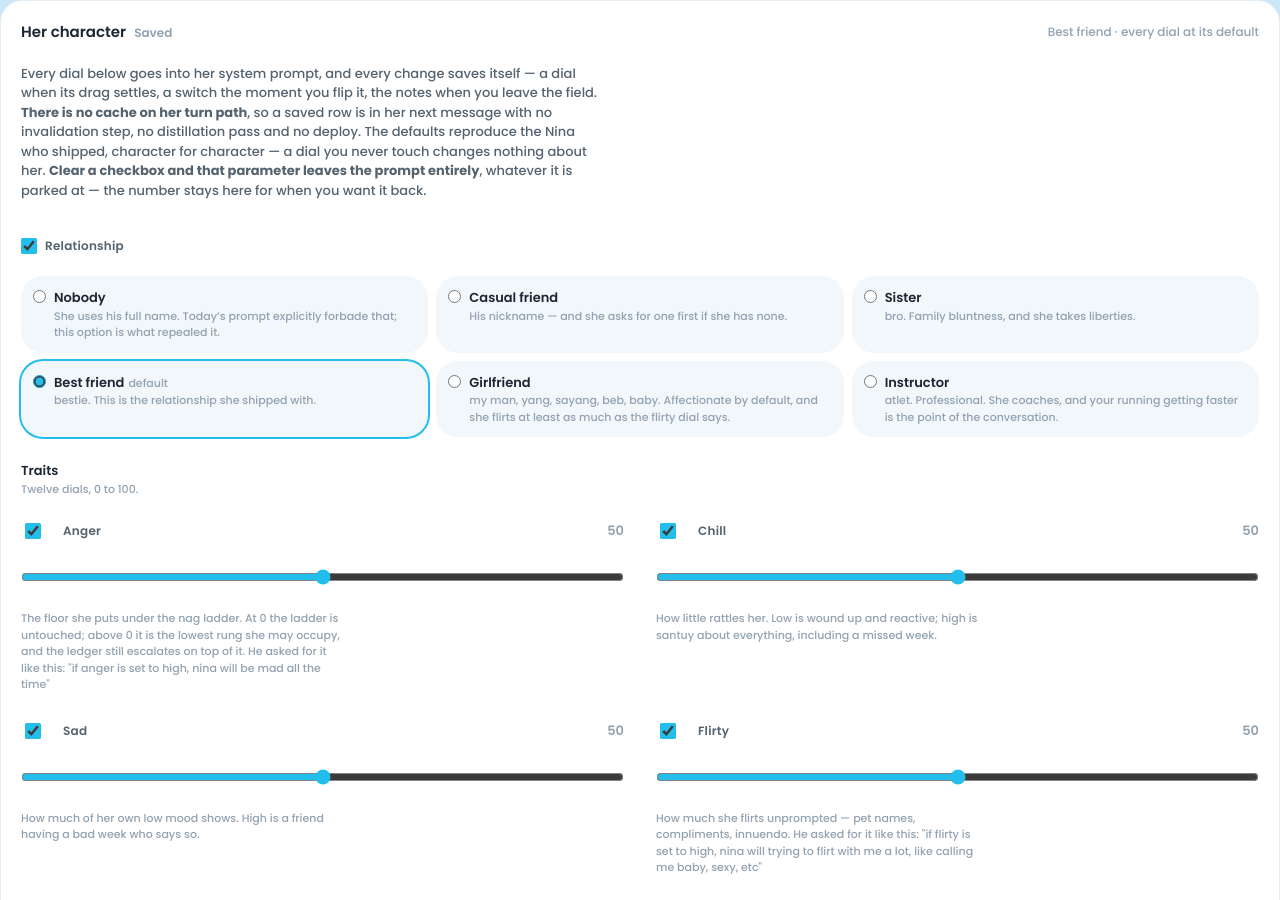
Test case: CharacterPanel — the pipeline’s answers › says the relationship is off in the words the feature shipped with
This screenshot has width=1280, height=900.
Click the checkbox named "Include the relationship in her prompt".
click(29, 246)  # box x1=21 y1=238 x2=37 y2=254
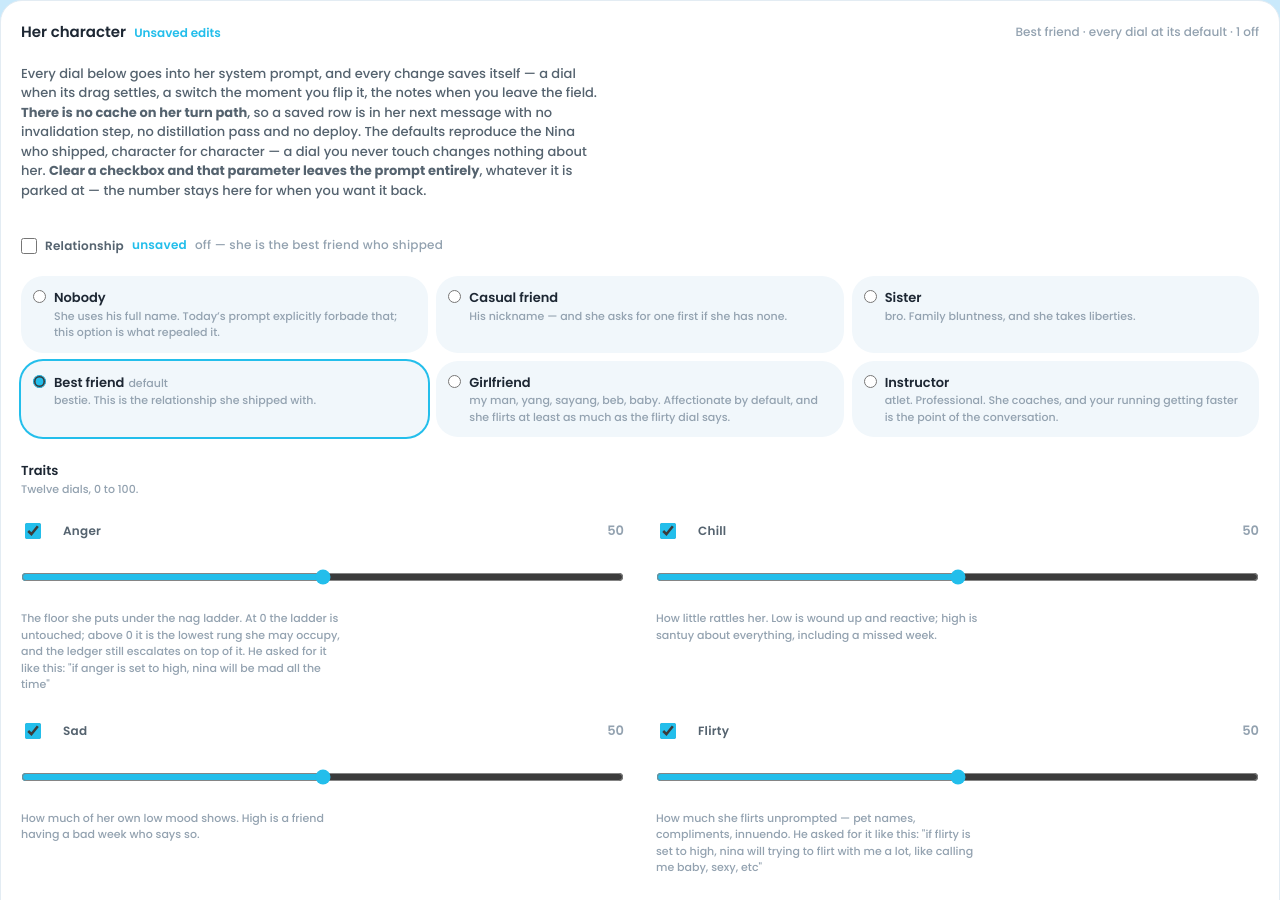
expect the text "off — she is the best friend who shipped" is shown: met, box x1=195 y1=236 x2=443 y2=253
expect the text "Best friend · every dial at its default · 1 off" is shown: met, box x1=1016 y1=23 x2=1259 y2=41
